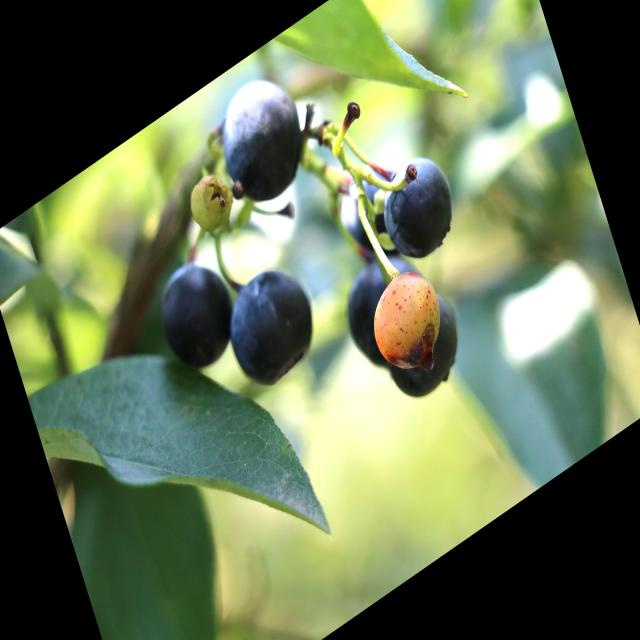blueberry: (202, 54, 320, 228), (215, 241, 331, 408), (332, 229, 442, 391), (146, 236, 250, 392), (372, 273, 478, 421), (370, 137, 467, 281), (328, 150, 414, 278)
blueberry-halfripe: (362, 258, 448, 378)
blueberry-unripe: (183, 161, 242, 247)
